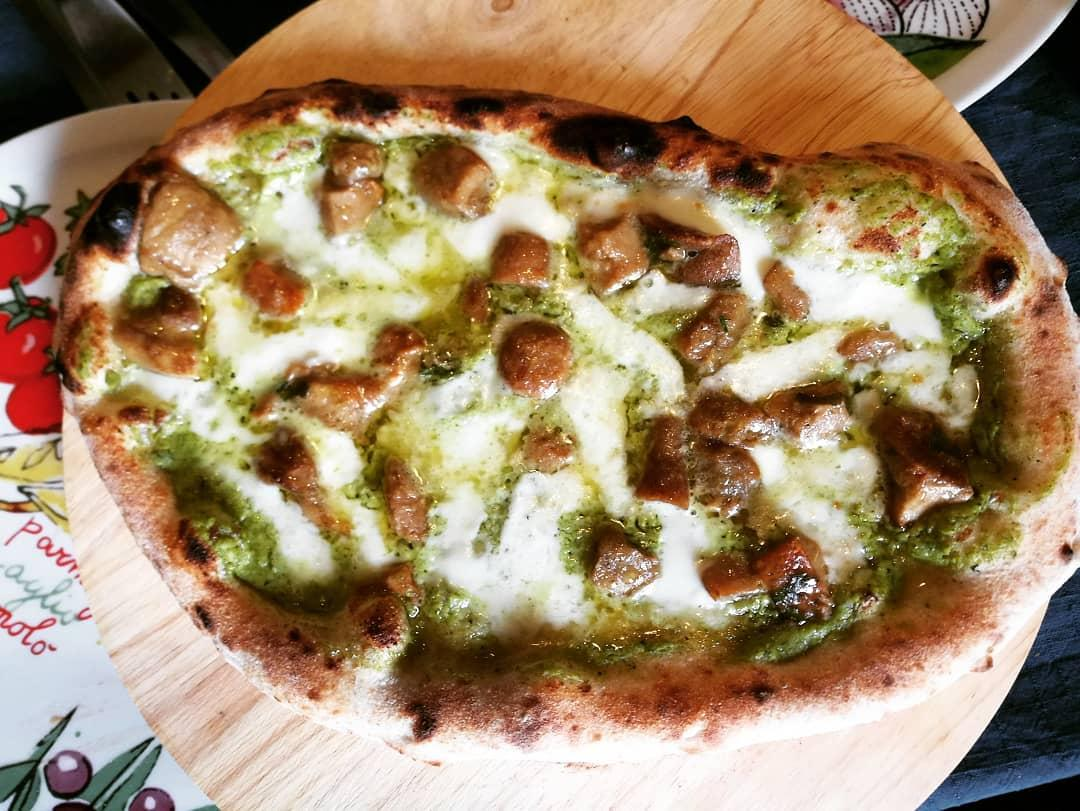Mushroom: (264, 319, 422, 435), (864, 395, 977, 528), (131, 167, 248, 291), (638, 409, 758, 519), (564, 190, 657, 307), (311, 125, 402, 240), (397, 128, 503, 223), (707, 535, 831, 614), (263, 435, 347, 550), (109, 282, 208, 373), (637, 213, 755, 284), (492, 314, 581, 403), (760, 375, 859, 453), (568, 530, 665, 607), (375, 452, 443, 553), (475, 229, 576, 297), (673, 283, 759, 360), (236, 249, 319, 323), (757, 251, 822, 332), (517, 418, 583, 480), (458, 268, 510, 343), (842, 330, 921, 370)
Pizza: (53, 70, 1080, 780)
